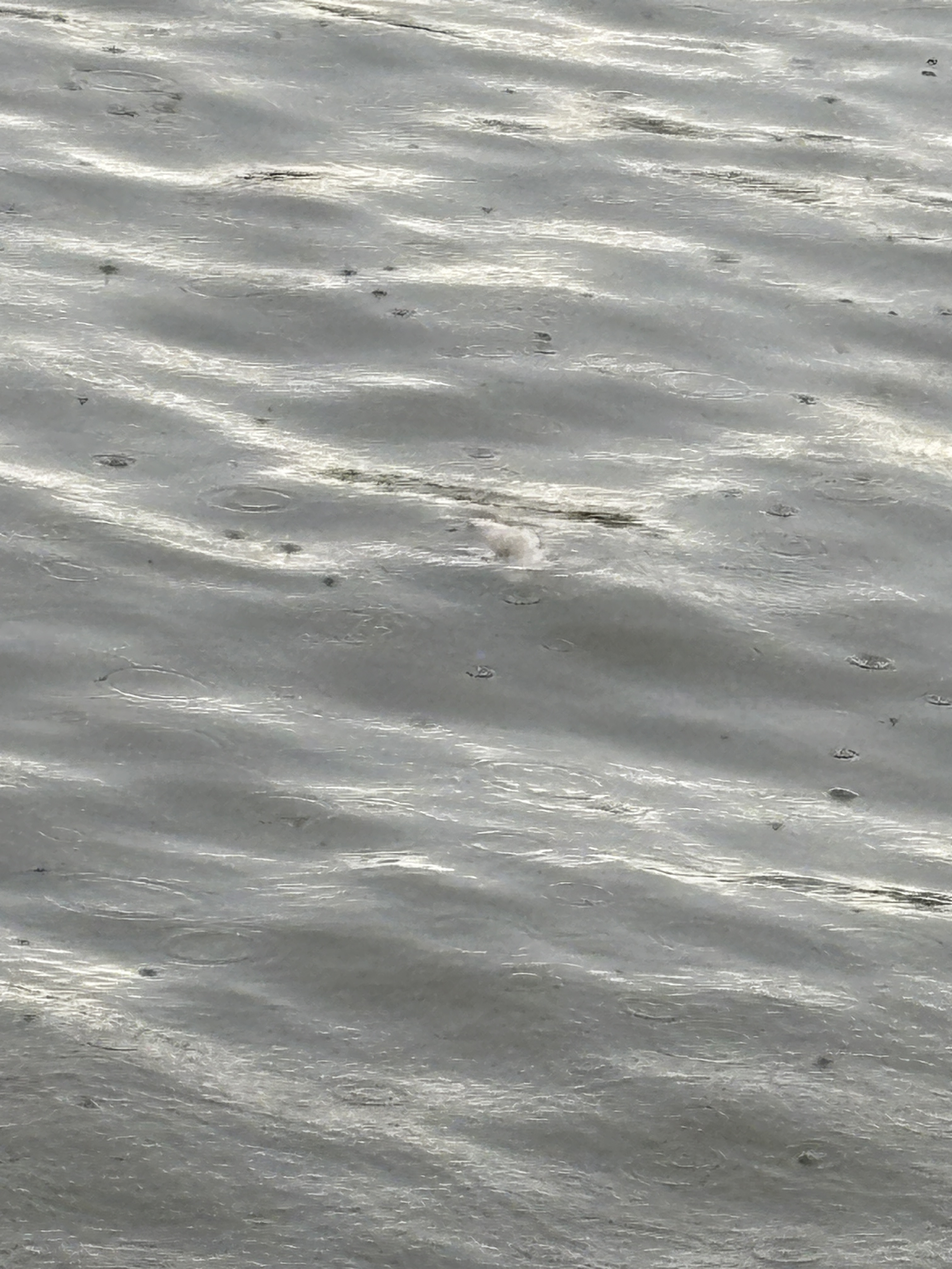Plastic wastes: (385, 543, 428, 630)
